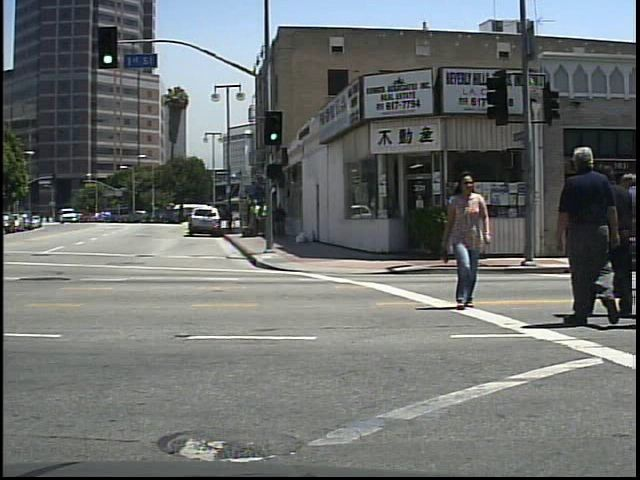person: (553, 140, 627, 333), (440, 168, 494, 312)
